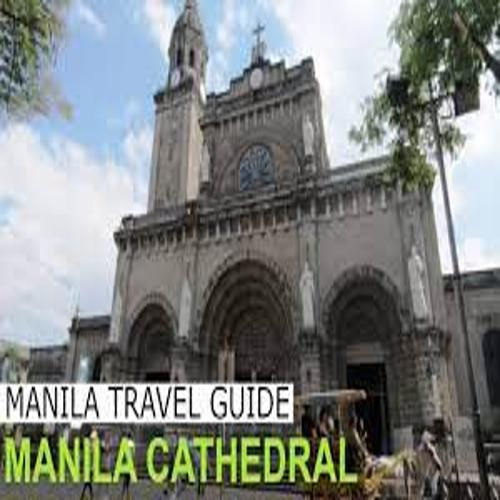Manila Cathedral Church: (81, 3, 452, 483)
